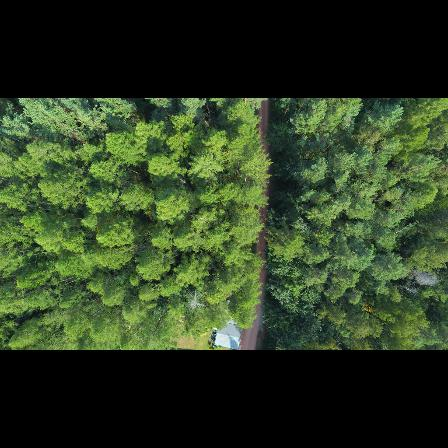Dead: (184, 289, 208, 315), (409, 268, 440, 287), (400, 284, 418, 298)
